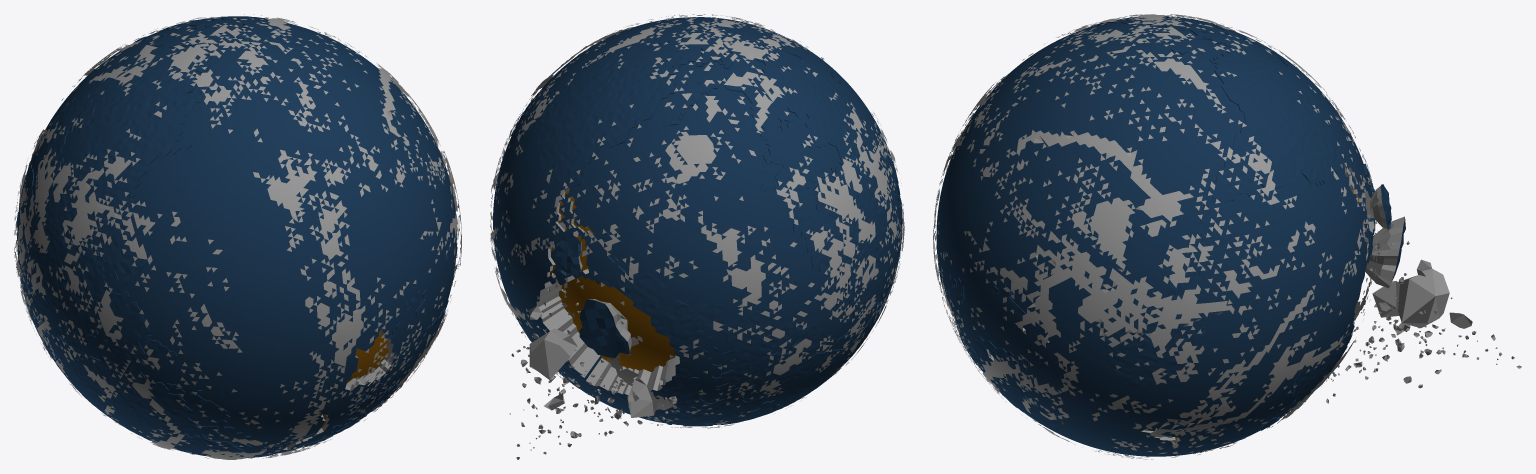
Rendered from EarthTitleNEW.FBX.
3 views of the same model, side by side, from view 1: azimuth 30°, elevation 25°; view 2: azimuth 150°, elevation 25°; view 3: azimuth 270°, elevation 25° (orthographic). The views are drawn at different scales.
Parts seen in each view (by area): view 1: NewEarth, Clouds; view 2: NewEarth, Clouds; view 3: NewEarth, Clouds.
Boxes of the visible parts, x1,y1,x2,y2 form: NewEarth: (16, 16, 457, 458); Clouds: (14, 14, 461, 459); NewEarth: (493, 17, 902, 459); Clouds: (490, 14, 904, 428); NewEarth: (936, 16, 1521, 456); Clouds: (933, 14, 1378, 459).
Bounding box in the file's own units: 0.1361 × 0.1357 × 0.1791.
